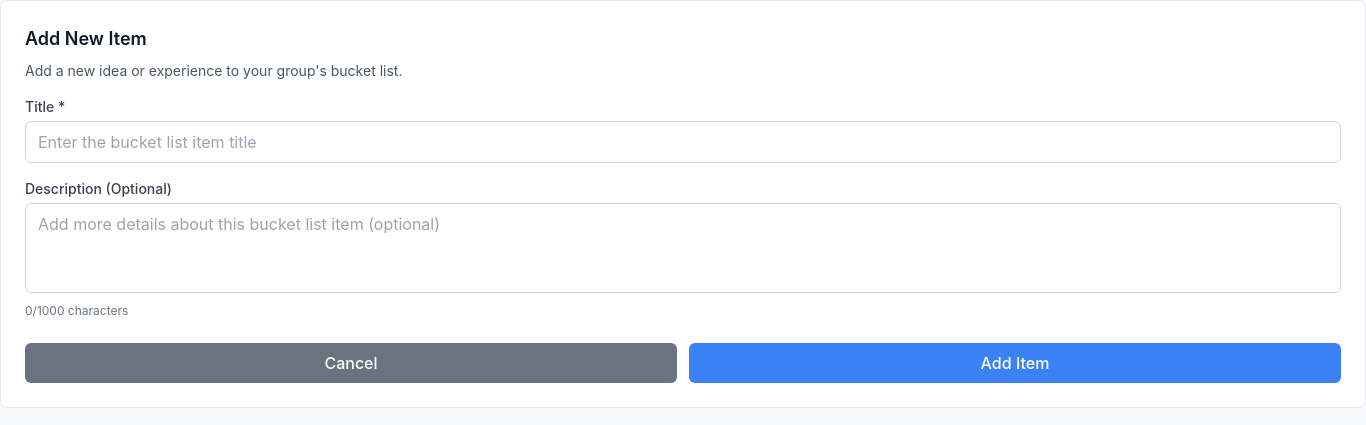
Test: AddItemForm › clears form when cancel is clicked
Type "Test Title" into the field labelled "Title *".
click(683, 142); type("Test Title")  # box [25,121,1341,163]
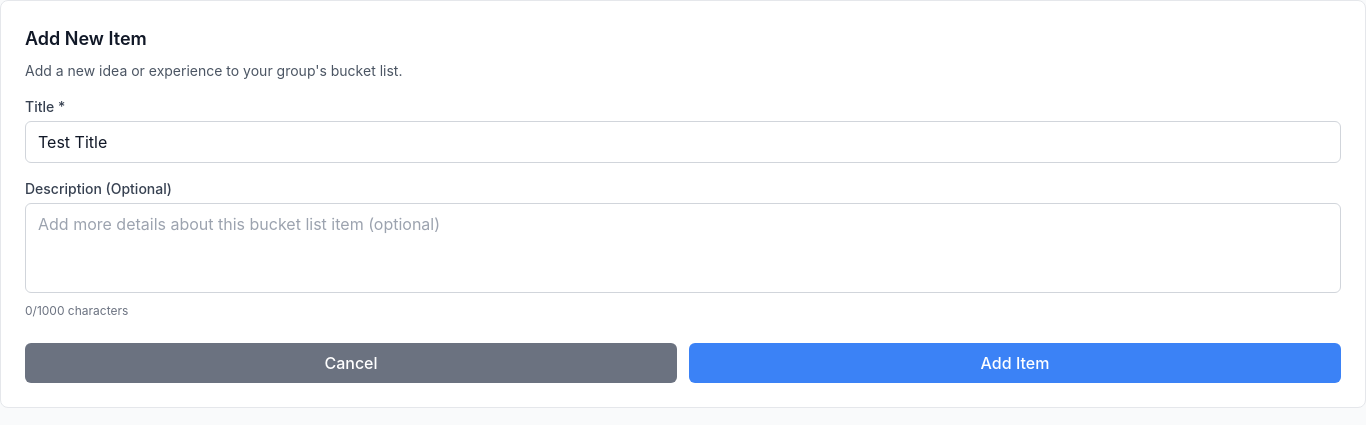
Type "Test Description" into the text box labelled "Description (Optional)".
click(683, 248); type("Test Description")  # box [25,203,1341,293]
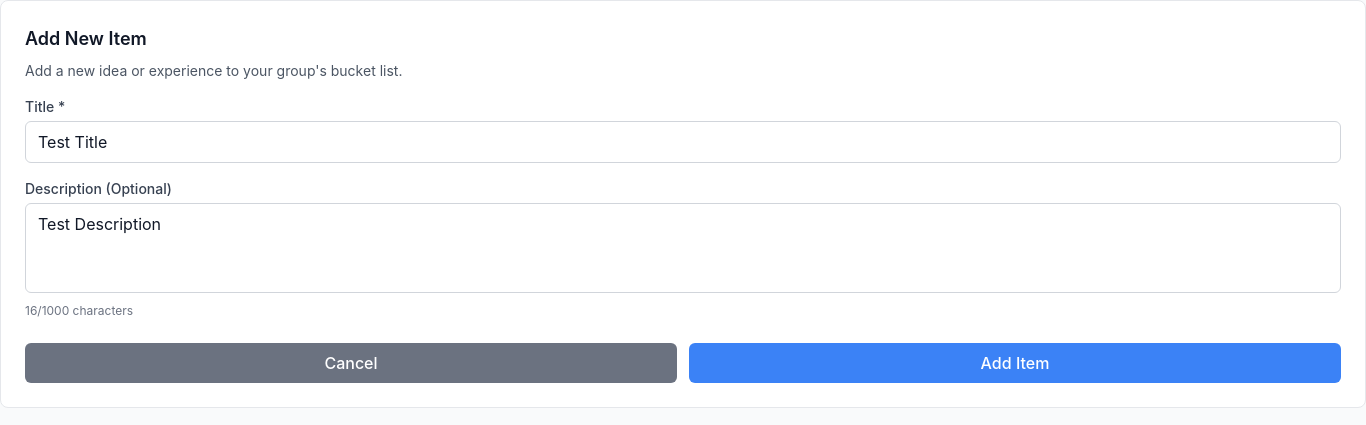
Click the button "Cancel".
click(351, 363)  # box [25,343,677,383]
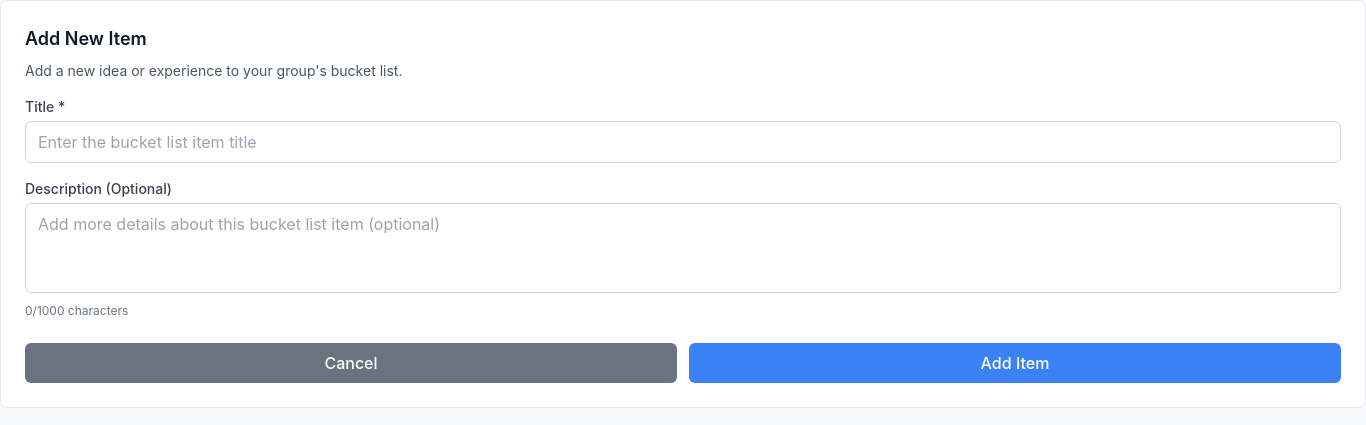
Now the field labelled "Title *" is empty, box [25,121,1341,163]
Now the text box labelled "Description (Optional)" is empty, box [25,203,1341,293]
